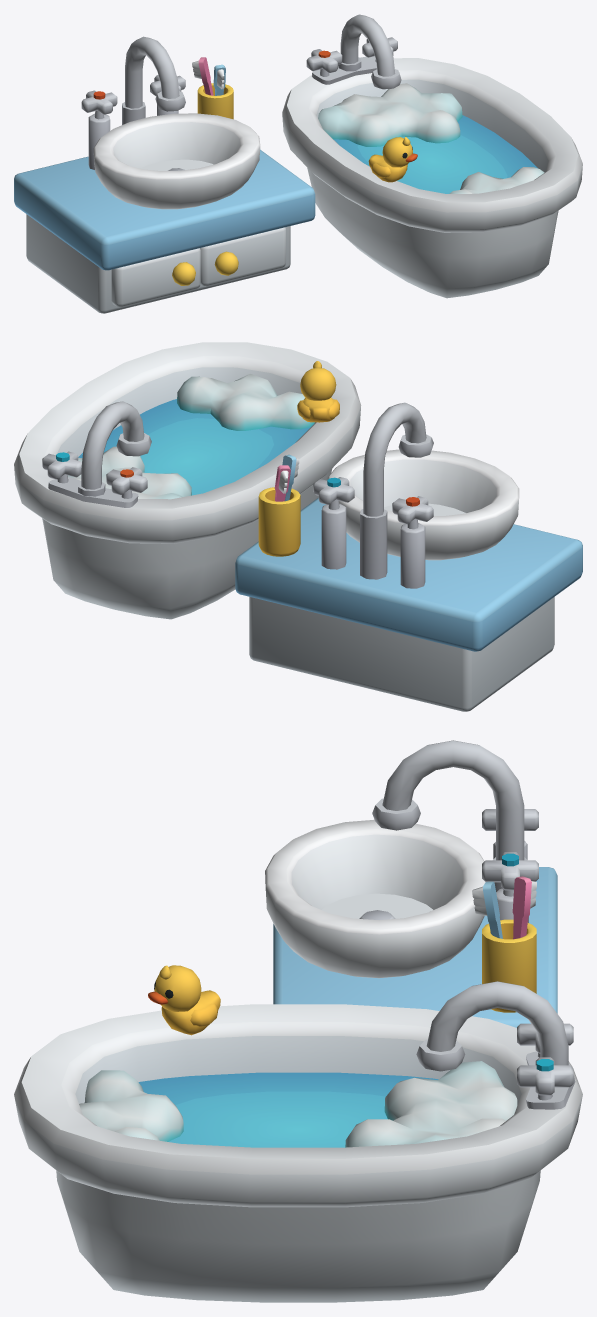
File: bathroom.glb
The picture shows the model from 3 angles, top to bottom: view 1: azimuth 30°, elevation 25°; view 2: azimuth 150°, elevation 25°; view 3: azimuth 270°, elevation 25°; orthographic projection. The views are drawn at different scales.
Visible parts, largest first — view 1: cabinet_bathroom, bath, bath_water, toothbrush_cup_decorated, ducky; view 2: cabinet_bathroom, bath, bath_water, toothbrush_cup_decorated, ducky; view 3: bath, cabinet_bathroom, bath_water, toothbrush_cup_decorated, ducky.
Boxes of the visible parts, x1,y1,x2,y2 form: cabinet_bathroom: [14, 36, 315, 313]; bath: [282, 14, 582, 298]; bath_water: [318, 83, 544, 193]; toothbrush_cup_decorated: [192, 57, 233, 119]; ducky: [368, 137, 417, 182]; cabinet_bathroom: [235, 402, 582, 711]; bath: [14, 342, 361, 619]; bath_water: [68, 374, 314, 499]; toothbrush_cup_decorated: [258, 454, 300, 556]; ducky: [297, 361, 339, 422]; bath: [14, 981, 582, 1302]; cabinet_bathroom: [265, 740, 557, 1027]; bath_water: [79, 1061, 517, 1147]; toothbrush_cup_decorated: [472, 876, 536, 1012]; ducky: [148, 965, 220, 1035].
Size of the model in its own units: 4.15 by 2.01 by 3.
Materials: 4 (4 with a texture image).
